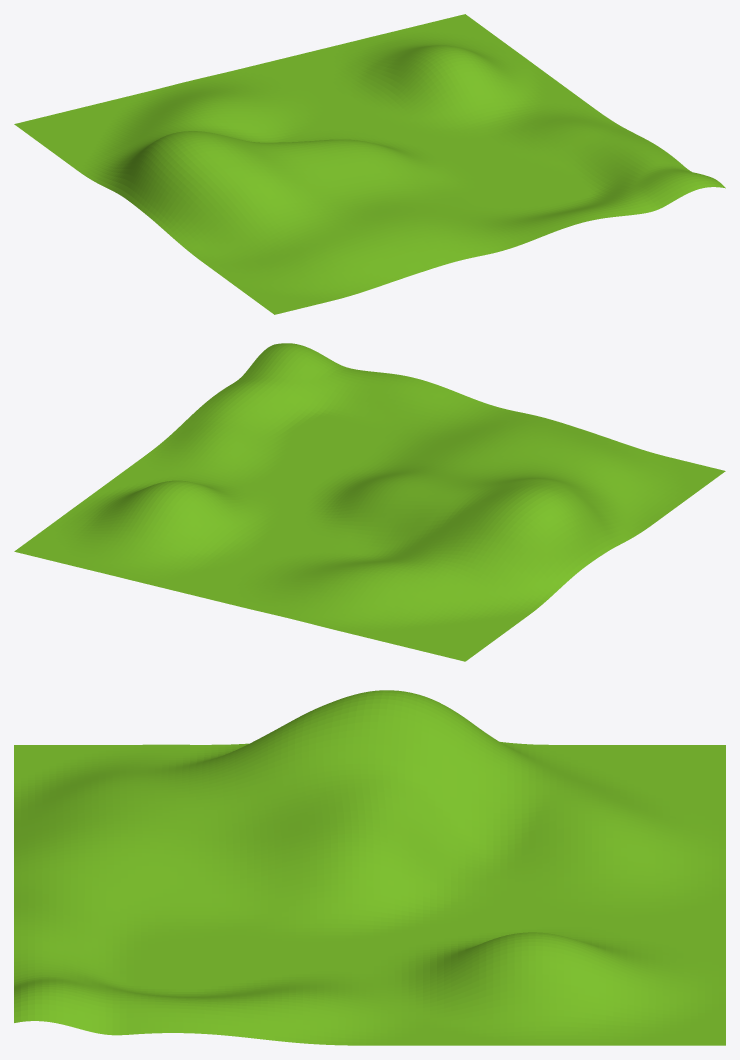
File: terrain.obj
The picture shows the model from 3 angles, top to bottom: view 1: azimuth 30°, elevation 25°; view 2: azimuth 150°, elevation 25°; view 3: azimuth 270°, elevation 25°; orthographic projection. The views are drawn at different scales.
Visible parts, largest first — view 1: Plane; view 2: Plane; view 3: Plane.
Boxes of the visible parts, x1,y1,x2,y2 form: Plane: [14, 14, 725, 314]; Plane: [14, 343, 725, 661]; Plane: [14, 690, 725, 1045].
Size of the model in its own units: 40.42 by 5.27 by 40.
